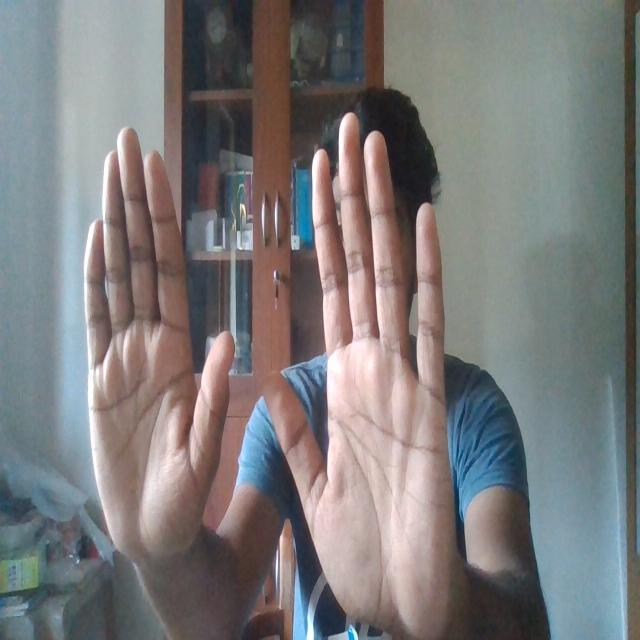ThankYou: (75, 107, 456, 640)
